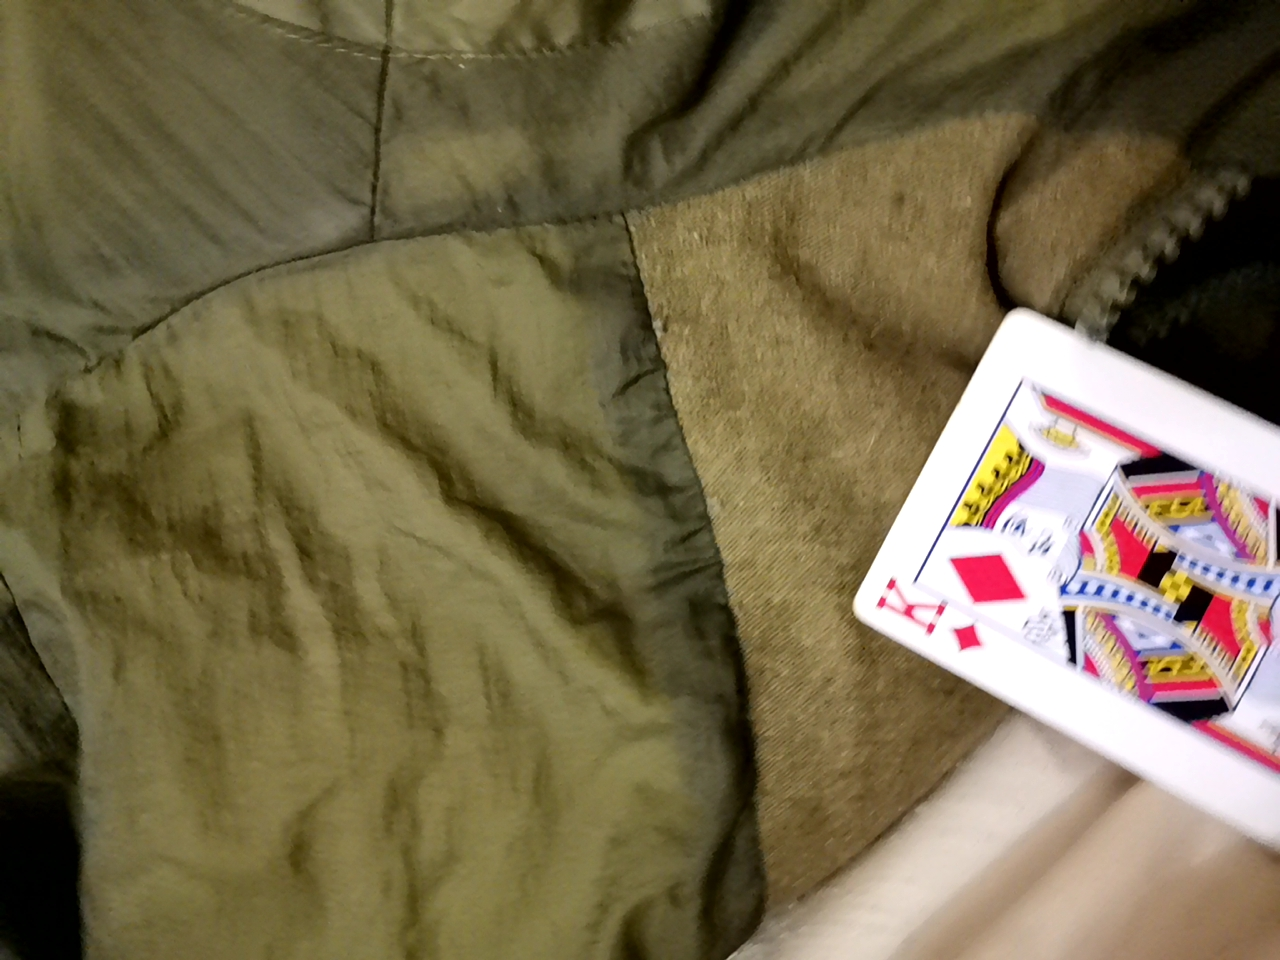fk k: (875, 256, 1280, 808)
